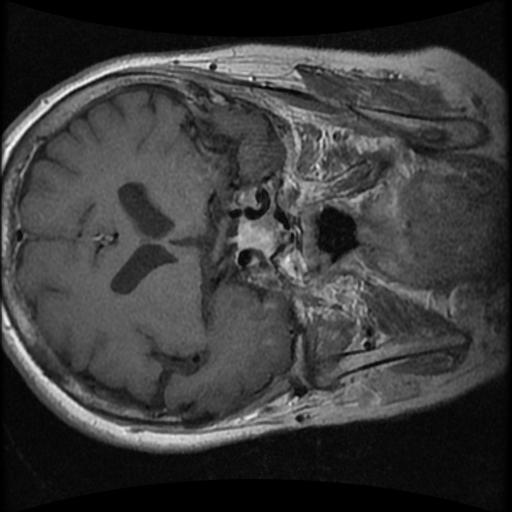pituitary tumour: (233, 212, 290, 259)
